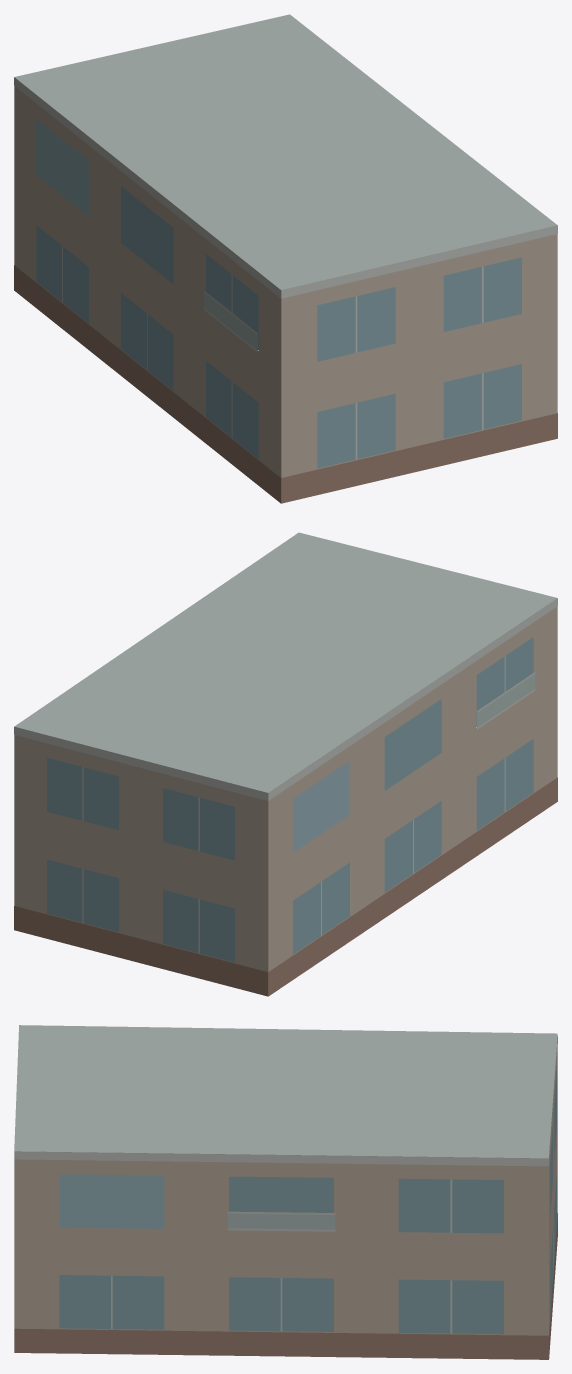
File: survey-upis-32635913.glb
3 renders of one model, top to bottom at view 1: azimuth 30°, elevation 25°; view 2: azimuth 150°, elevation 25°; view 3: azimuth 270°, elevation 25°, orthographic. The views are drawn at different scales.
Parts seen in each view (by area): view 1: survey-upis-32635913.tmp; view 2: survey-upis-32635913.tmp; view 3: survey-upis-32635913.tmp.
Part boxes in pixels (bbox=[...]): survey-upis-32635913.tmp: bbox=[14, 14, 557, 503]; survey-upis-32635913.tmp: bbox=[14, 532, 557, 996]; survey-upis-32635913.tmp: bbox=[14, 1025, 557, 1359].
Bounding box in the file's own units: 8.67 × 6.1 × 14.93.
